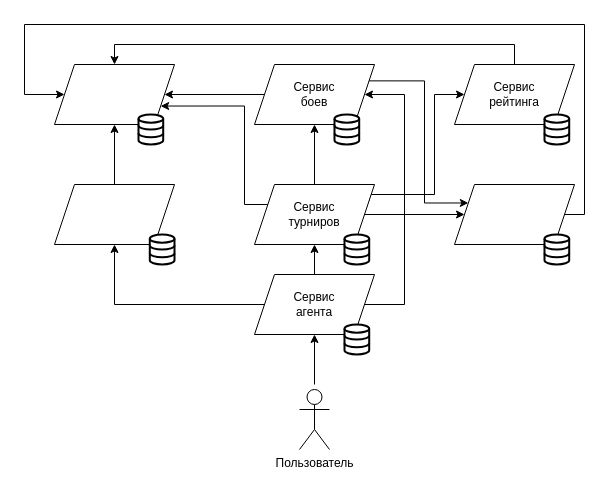
Some shapes in this 610 by 488 pixel diagram are drawn without their labels. Here are the shapes that lost their labels. From the top down, the centre of each, then its label:
At point 114,94: "Сервис пользователей".
At point 114,214: "Сервис авторизации".
At point 514,214: "Сервис уведомлений".
